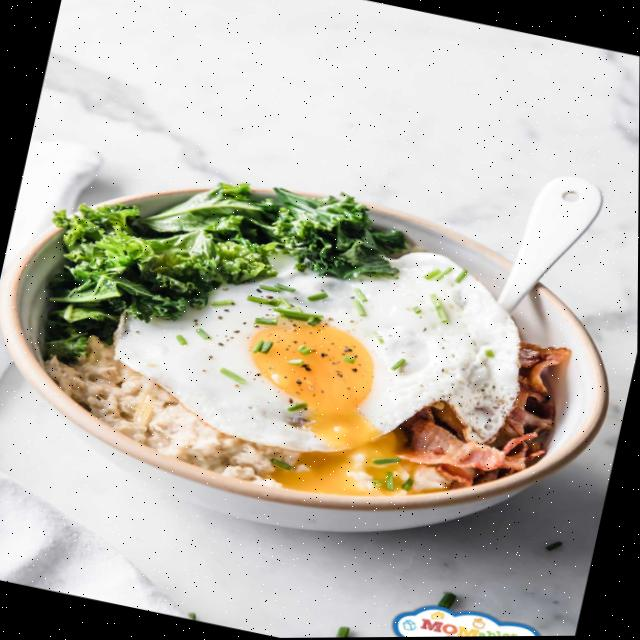Egg: (115, 252, 521, 453)
